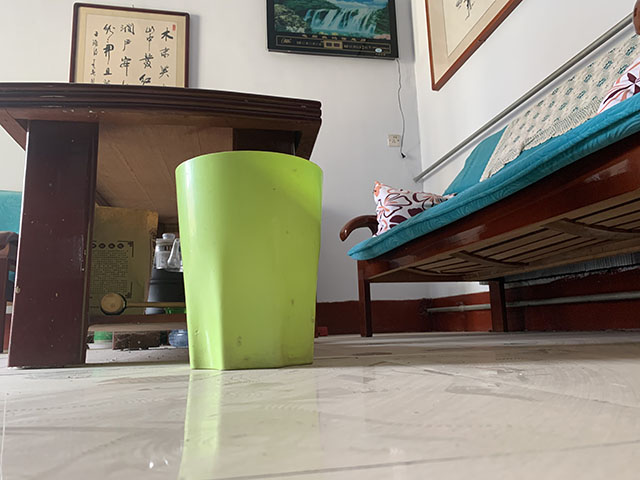sofa: (338, 1, 640, 339)
table: (1, 80, 323, 369)
trash can: (174, 147, 324, 372)
